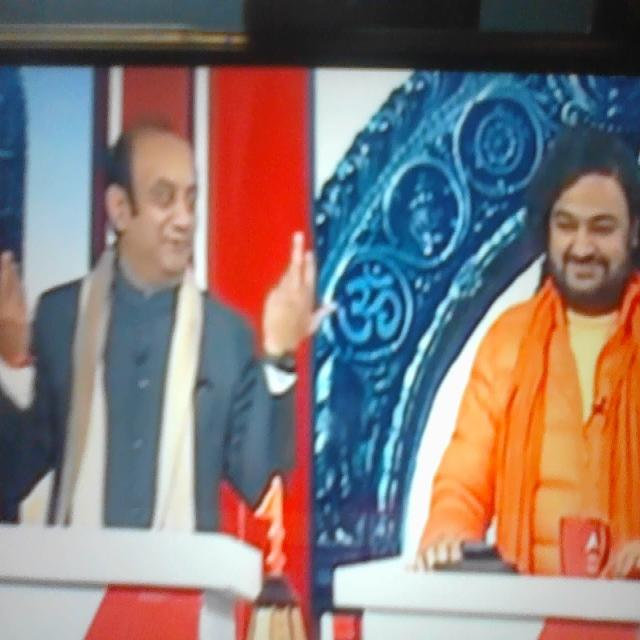fake: (106, 76, 220, 291)
